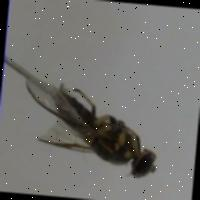Oriental-fruit-fly: (12, 64, 170, 186)
